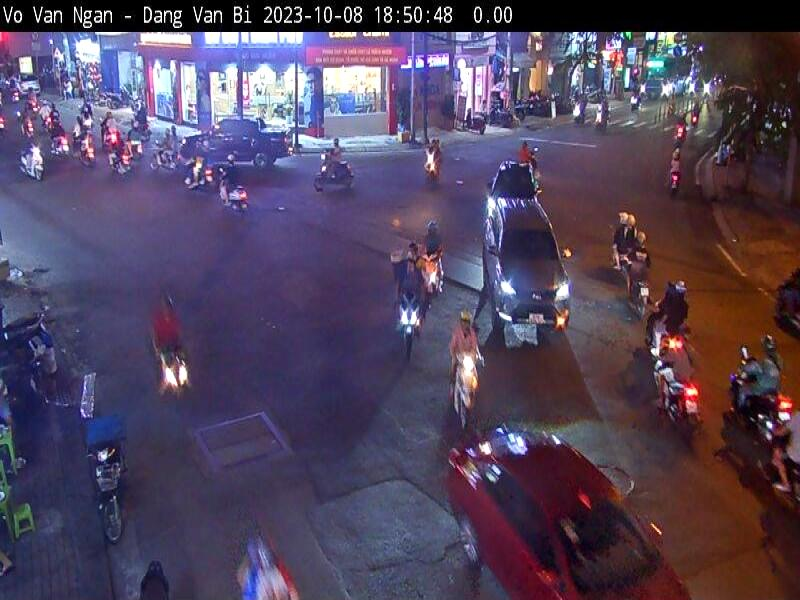car: (485, 200, 571, 328), (179, 115, 293, 170)
motorcycle: (84, 415, 133, 545)
